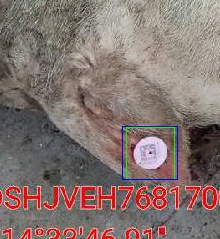text: (126, 127, 174, 179)
